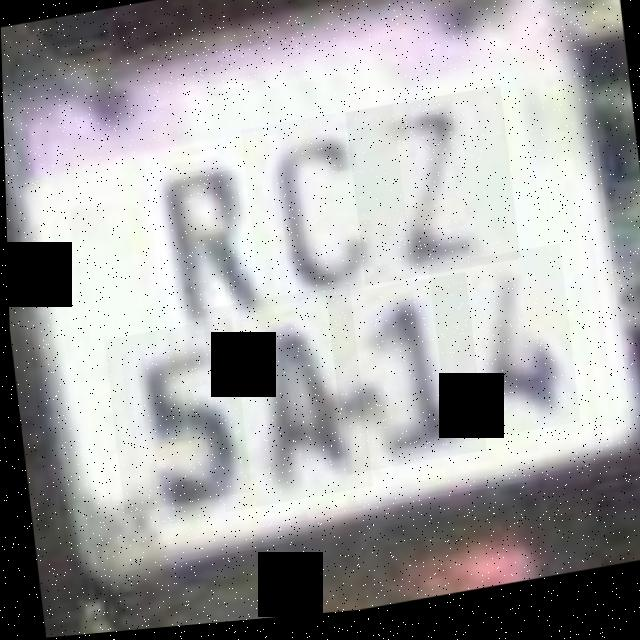1: (324, 279, 483, 482)
4: (426, 252, 577, 454)
5: (101, 320, 249, 516)
A: (199, 289, 369, 517)
O: (239, 109, 412, 313)
R: (142, 131, 297, 337)
Z: (344, 93, 519, 293)
